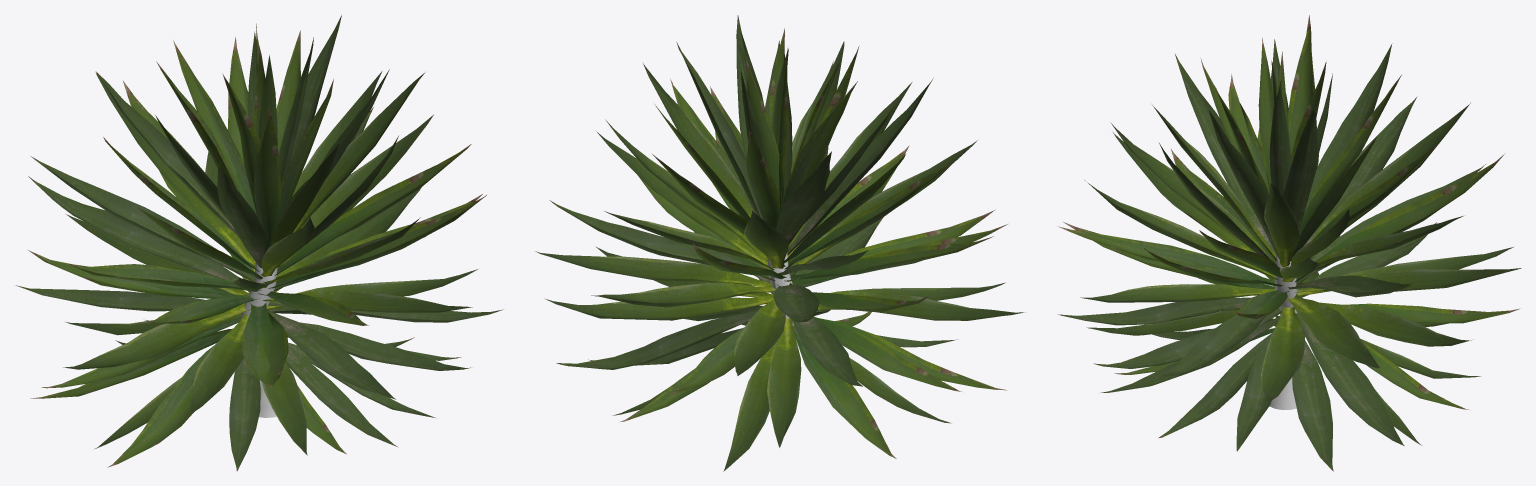
Rendered from MT_PM_V60_Agave_sisalana_01_01.dae.
3 renders of one model, left to right at view 1: azimuth 30°, elevation 25°; view 2: azimuth 150°, elevation 25°; view 3: azimuth 270°, elevation 25°, orthographic. The views are drawn at different scales.
Visible parts, largest first — view 1: MT_PM_V60_Agave_sisalana_01_01; view 2: MT_PM_V60_Agave_sisalana_01_01; view 3: MT_PM_V60_Agave_sisalana_01_01.
Boxes of the visible parts, x1,y1,x2,y2 form: MT_PM_V60_Agave_sisalana_01_01: (16, 15, 503, 471); MT_PM_V60_Agave_sisalana_01_01: (535, 15, 1024, 471); MT_PM_V60_Agave_sisalana_01_01: (1057, 15, 1521, 471).
Bounding box in the file's own units: 3.71 × 3.61 × 2.96.
